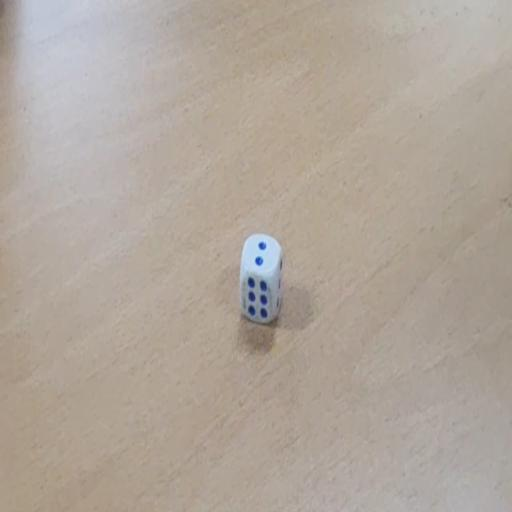dice_2: (238, 232, 283, 325)
